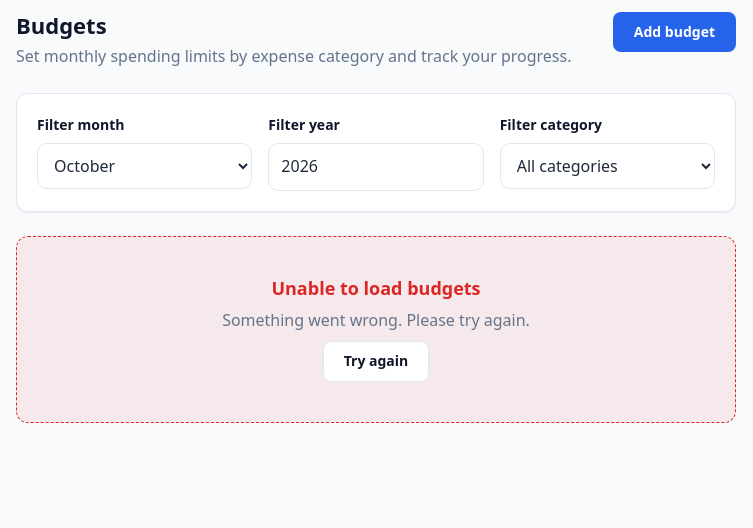
Scenario: BudgetsPage › shows a list error and retries the request
Expected: the heading "Unable to load budgets" is shown, [271,277,480,300]
Step 1. Click the button "Try again" → [376, 361], box [323,341,429,382]
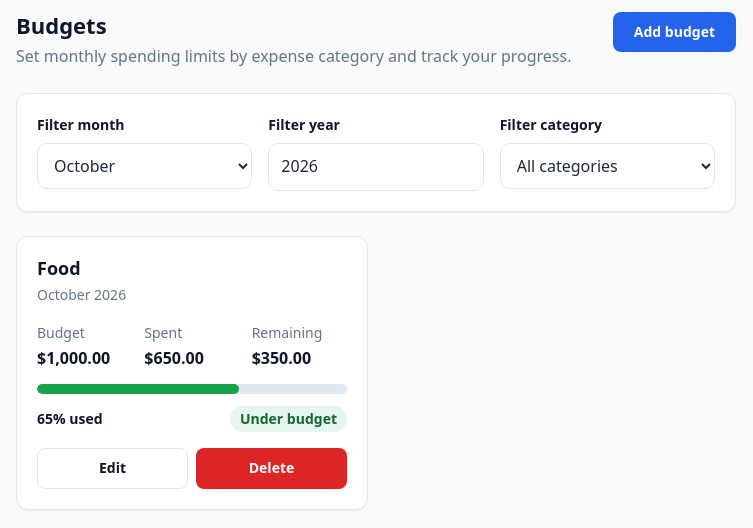
Result: the element "Food" is shown at [16,236,368,510]
